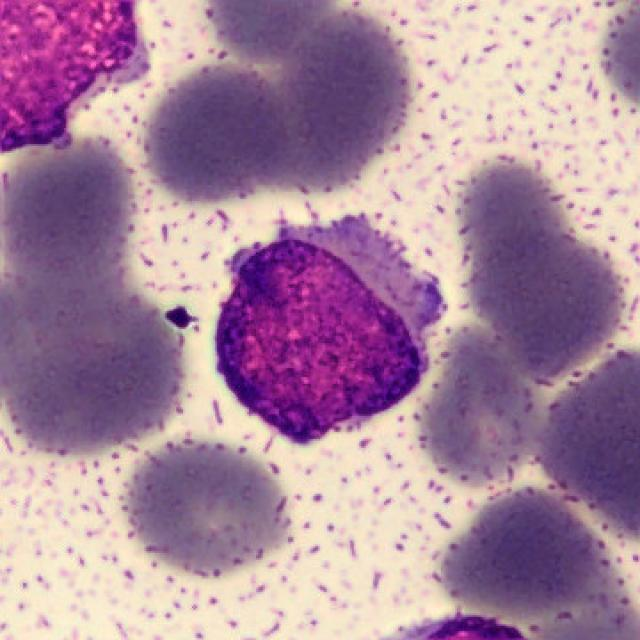Mieloblasto: (215, 226, 448, 448)
